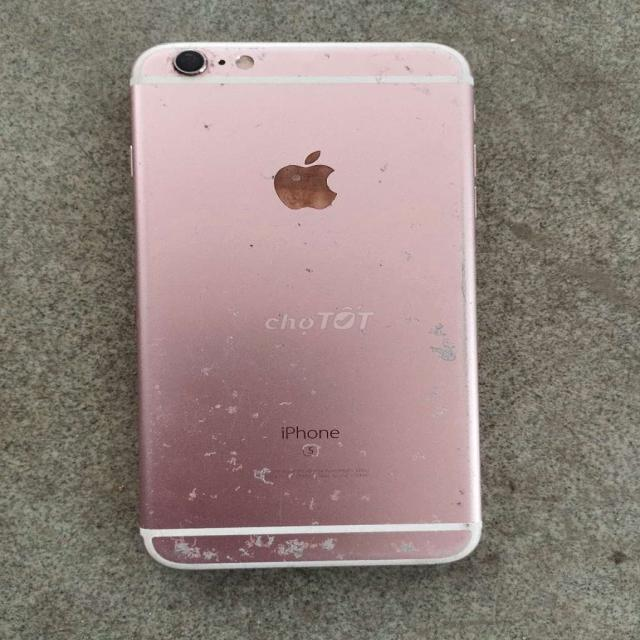gen_6: (131, 43, 481, 569)
